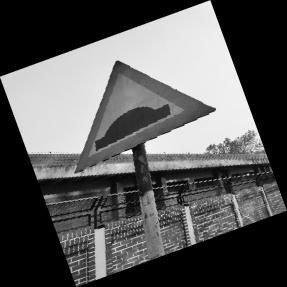Speed-breaker: (73, 60, 215, 170)
